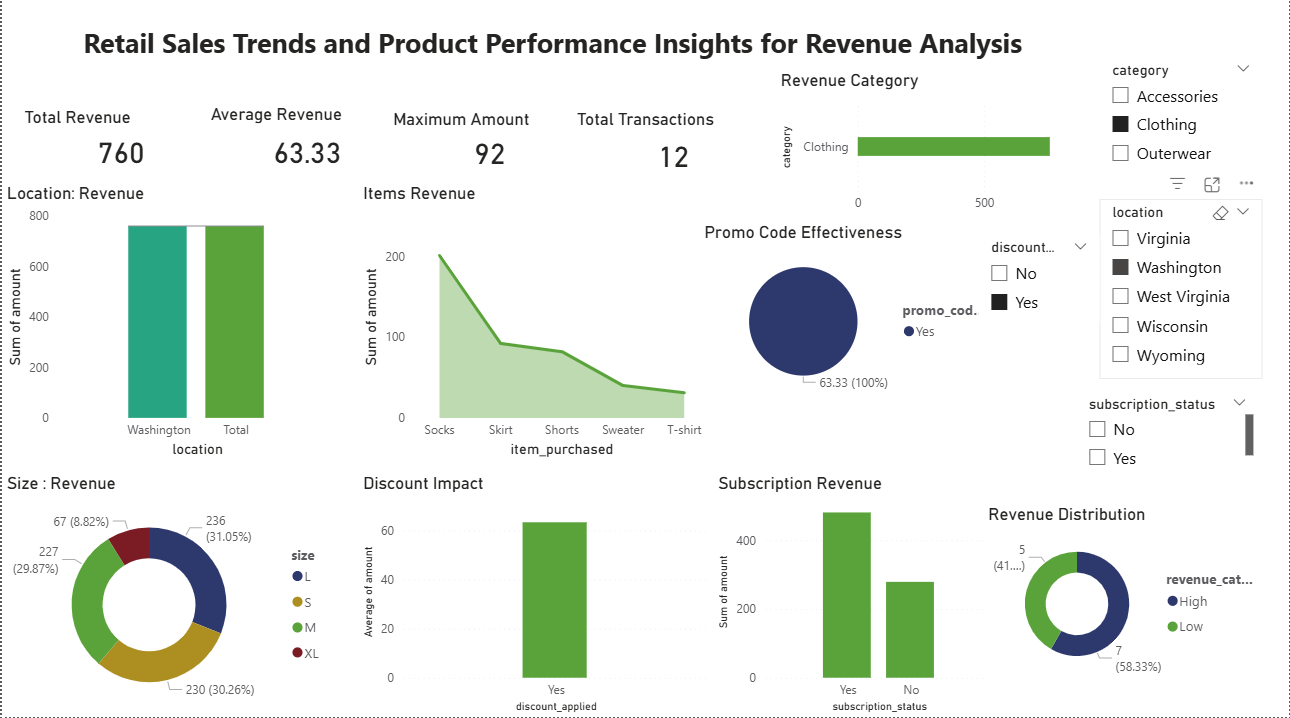

This screenshot's page, from the dashboard's own definition file:
{"tool":"powerbi","page":{"name":"Page 1","canvas":[1280,720],"ordinal":0},"visuals":[{"type":"textbox","box":[76.3,24.6,947.7,88.6],"z":0},{"type":"card","title":"Total Revenue","fields":{"Values":["Sum(Sheet1.amount)"]},"box":[17.5,112.5,202.5,70],"z":1000},{"type":"card","title":"Average Revenue","fields":{"Values":["Avg(Sheet1.amount)"]},"box":[202.5,110,202.5,75],"z":2000},{"type":"card","title":"Maximum Amount","fields":{"Values":["Max(Sheet1.amount)"]},"box":[385,115,202.5,67.5],"z":3000},{"type":"card","title":"Total  Transactions","fields":{"Values":["CountNonNull(Sheet1.item_purchased)"]},"box":[567.5,115,202.5,72.5],"z":4000},{"type":"clusteredBarChart","title":"Revenue Category","fields":{"Category":["Sheet1.category"],"Y":["Sum(Sheet1.amount)"]},"box":[770,76,298,150],"z":5000},{"type":"areaChart","title":"Items Revenue","fields":{"Category":["Sheet1.item_purchased"],"Y":["Sum(Sheet1.amount)"]},"box":[354,188,354,278],"z":6000},{"type":"waterfallChart","title":"Location: Revenue","fields":{"Category":["Sheet1.location"],"Y":["Sum(Sheet1.amount)"]},"box":[0,188,338,278],"z":7000},{"type":"donutChart","title":"Size : Revenue","fields":{"Category":["Sheet1.size"],"Y":["Sum(Sheet1.amount)"]},"box":[0,476,338,244],"z":8000},{"type":"clusteredColumnChart","title":"Discount Impact","fields":{"Category":["Sheet1.discount_applied"],"Y":["Avg(Sheet1.amount)"]},"box":[354,476,354,244],"z":9000},{"type":"pieChart","title":"Promo Code Effectiveness","fields":{"Category":["Sheet1.promo_code_used"],"Y":["Avg(Sheet1.amount)"]},"box":[694,226,298,180],"z":10000},{"type":"clusteredColumnChart","title":"Subscription Revenue","fields":{"Category":["Sheet1.subscription_status"],"Y":["Sum(Sheet1.amount)"]},"box":[708,476,284,244],"z":11000},{"type":"donutChart","title":"Revenue Distribution","fields":{"Category":["Sheet1.revenue_category"],"Y":["CountNonNull(Sheet1.item_purchased)"]},"box":[976,508,278,180],"z":12000},{"type":"slicer","fields":{"Values":["Sheet1.category"]},"box":[1092,62,162,120],"z":13000},{"type":"slicer","fields":{"Values":["Sheet1.location"]},"box":[1092,226,162,180],"z":14000},{"type":"slicer","fields":{"Values":["Sheet1.discount_applied"]},"box":[972,240,120,88],"z":15000},{"type":"slicer","fields":{"Values":["Sheet1.subscription_status"]},"box":[1068,394,182,82],"z":16000}]}

Visuals, with their boxes in screenshot pixels (x1, y1, x2, y2), scaled from the page's 1280x720 canvas onto the 1290x718 screenshot:
textbox: x1=77, y1=25, x2=1032, y2=113
"Total Revenue" card: x1=18, y1=112, x2=222, y2=182
"Average Revenue" card: x1=204, y1=110, x2=408, y2=184
"Maximum Amount" card: x1=388, y1=115, x2=592, y2=182
"Total  Transactions" card: x1=572, y1=115, x2=776, y2=187
"Revenue Category" clusteredBarChart: x1=776, y1=76, x2=1076, y2=225
"Items Revenue" areaChart: x1=357, y1=187, x2=714, y2=465
"Location: Revenue" waterfallChart: x1=0, y1=187, x2=341, y2=465
"Size : Revenue" donutChart: x1=0, y1=475, x2=341, y2=717
"Discount Impact" clusteredColumnChart: x1=357, y1=475, x2=714, y2=717
"Promo Code Effectiveness" pieChart: x1=699, y1=225, x2=1000, y2=405
"Subscription Revenue" clusteredColumnChart: x1=714, y1=475, x2=1000, y2=717
"Revenue Distribution" donutChart: x1=984, y1=507, x2=1264, y2=686
slicer - Sheet1.category: x1=1101, y1=62, x2=1264, y2=181
slicer - Sheet1.location: x1=1101, y1=225, x2=1264, y2=405
slicer - Sheet1.discount_applied: x1=980, y1=239, x2=1101, y2=327
slicer - Sheet1.subscription_status: x1=1076, y1=393, x2=1260, y2=475
